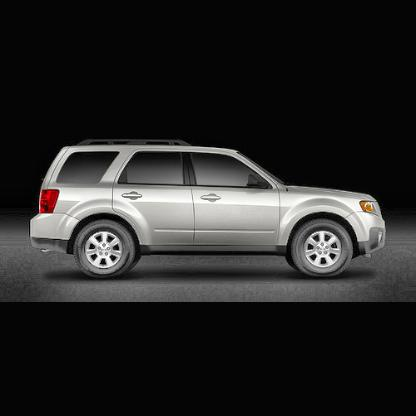Mazda Tribute SUV 2011: (31, 146, 388, 281)
